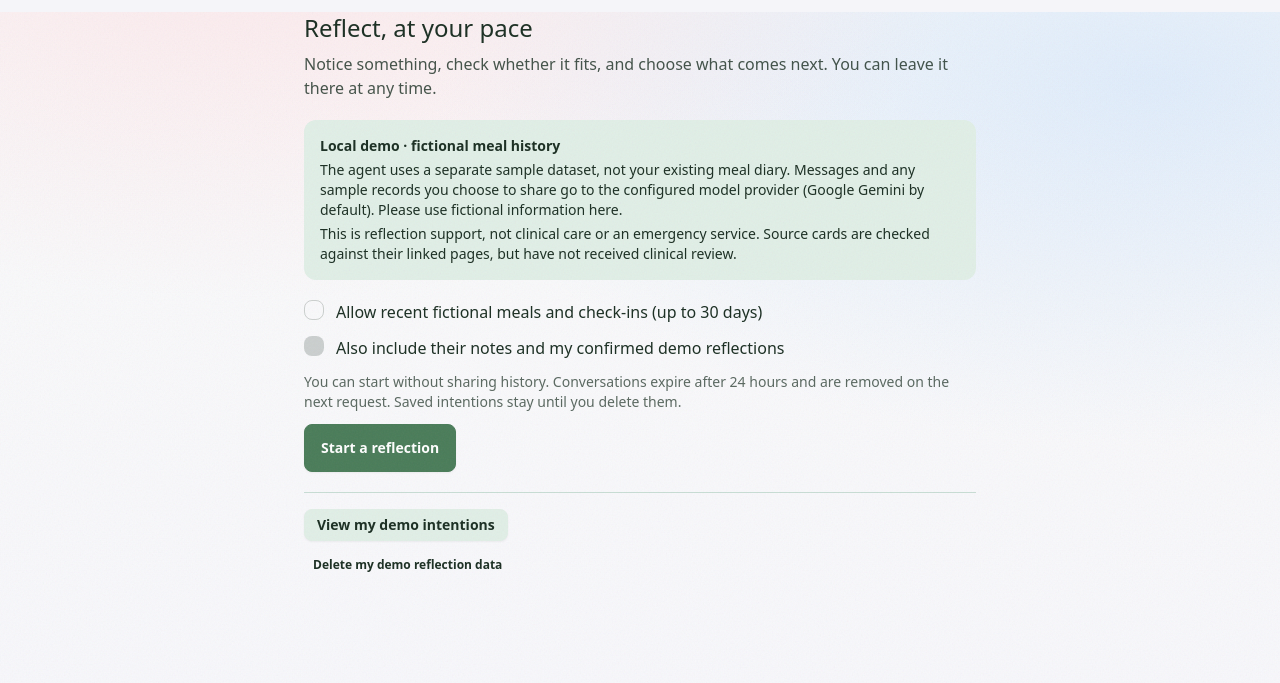
only sends edited goal text after the user explicitly saves the draft
Click the button "Start a reflection" at (380, 448), box [304,424,456,472]
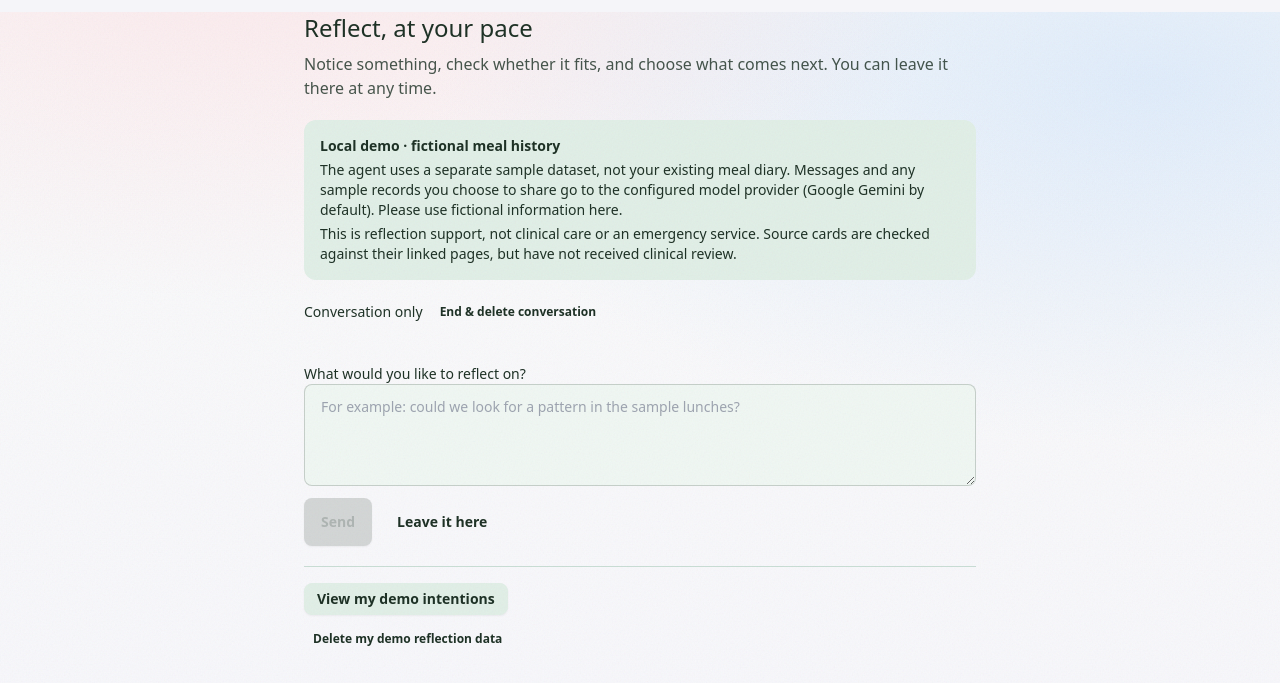
Type "Please make an intention" into the text box labelled "What would you like to reflect on?" at (640, 435), box [304,384,976,486]
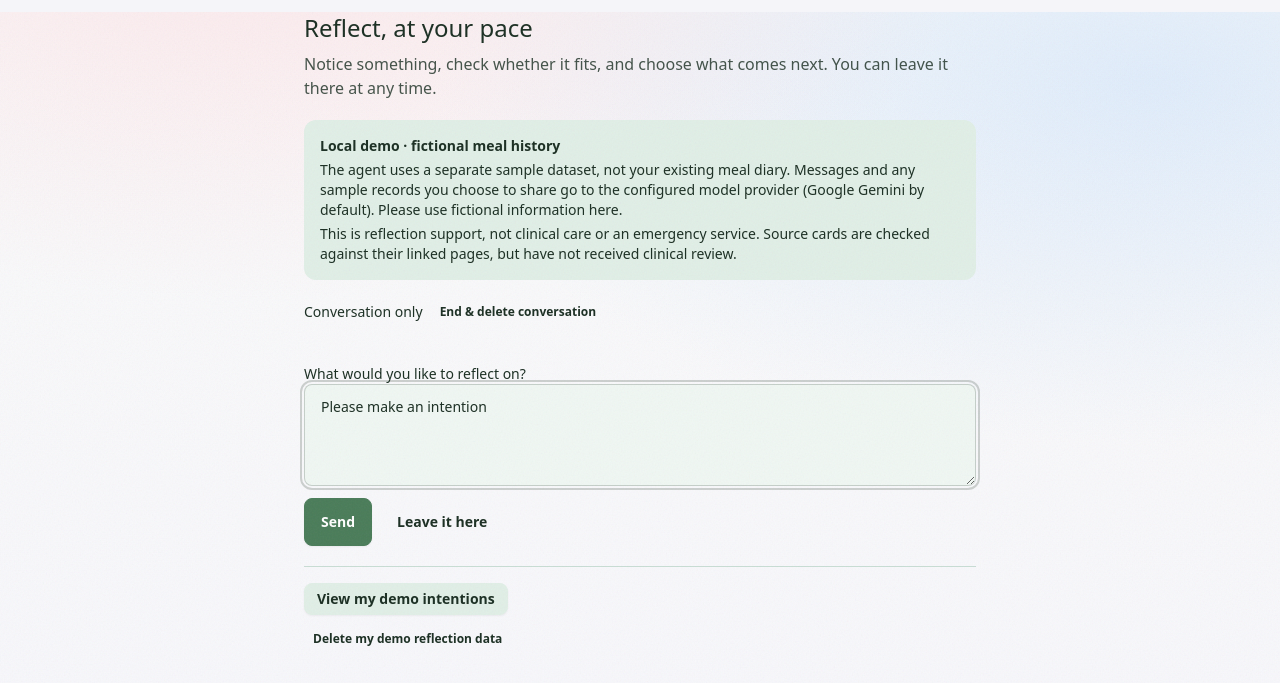
Click the button "Send" at (338, 522), box [304,498,372,546]
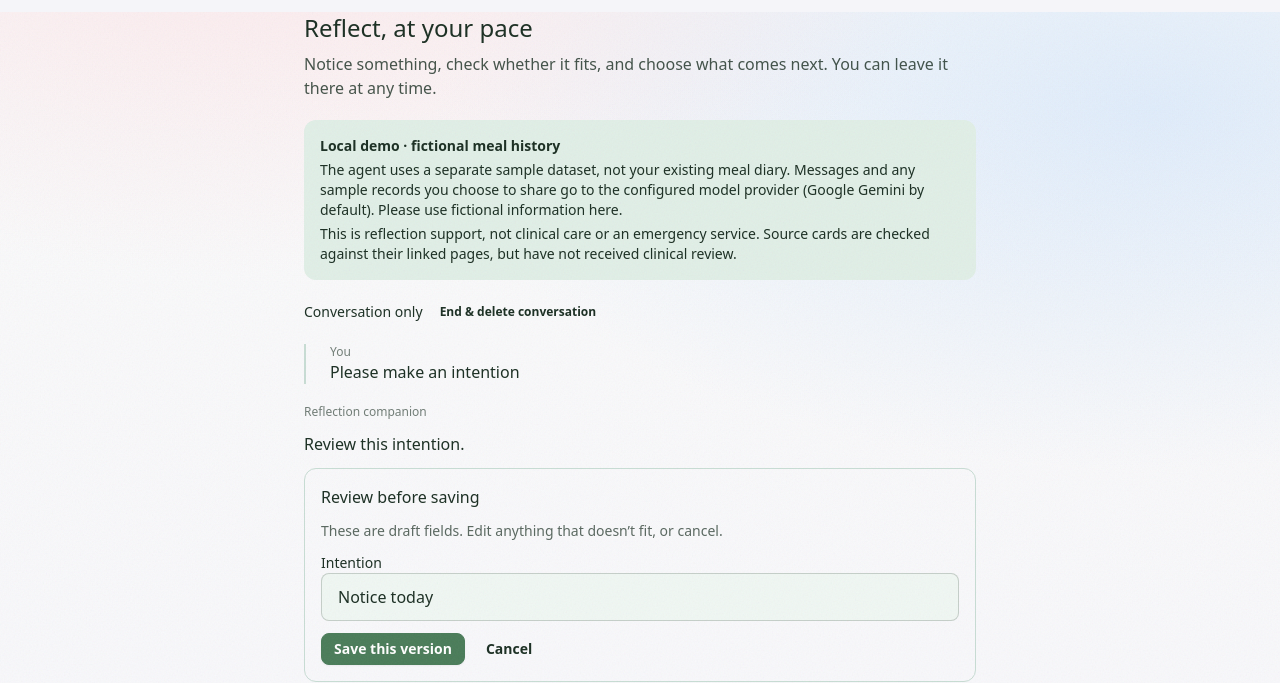
Replace the text in the field labelled "Intention" with "Ask a friend for company" at (640, 597), box [321,573,959,621]
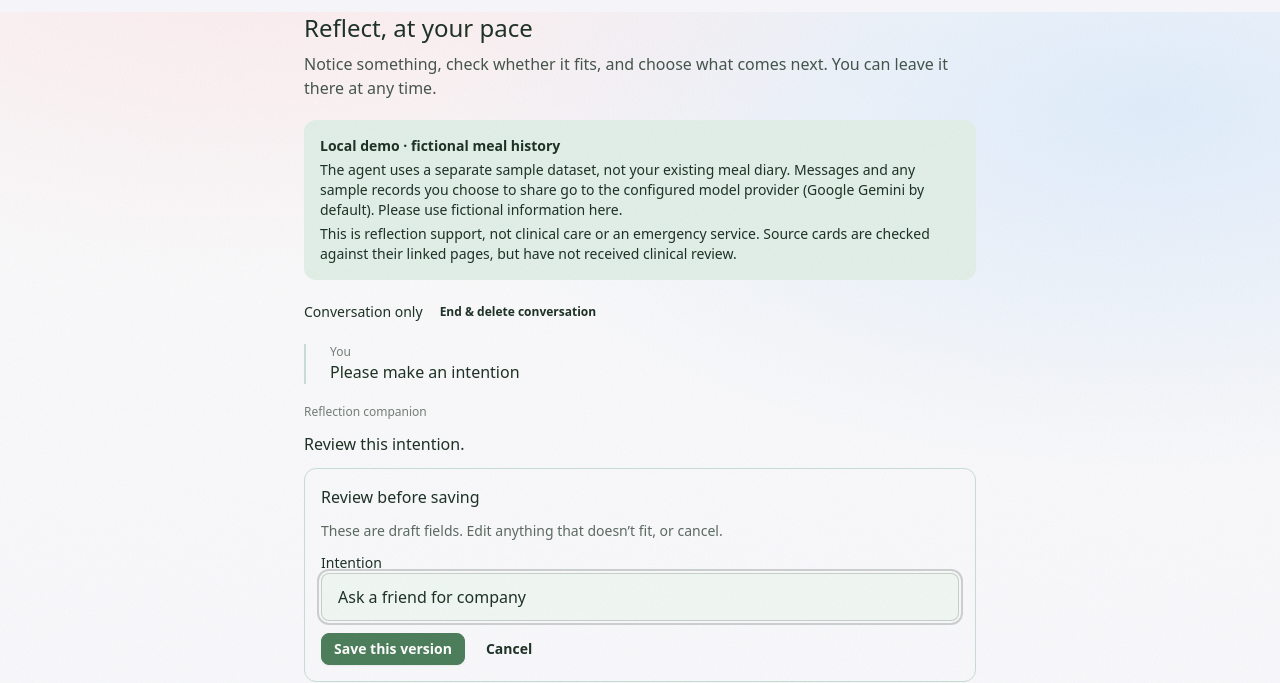
Click the button "Save this version" at (393, 649), box [321,633,465,665]
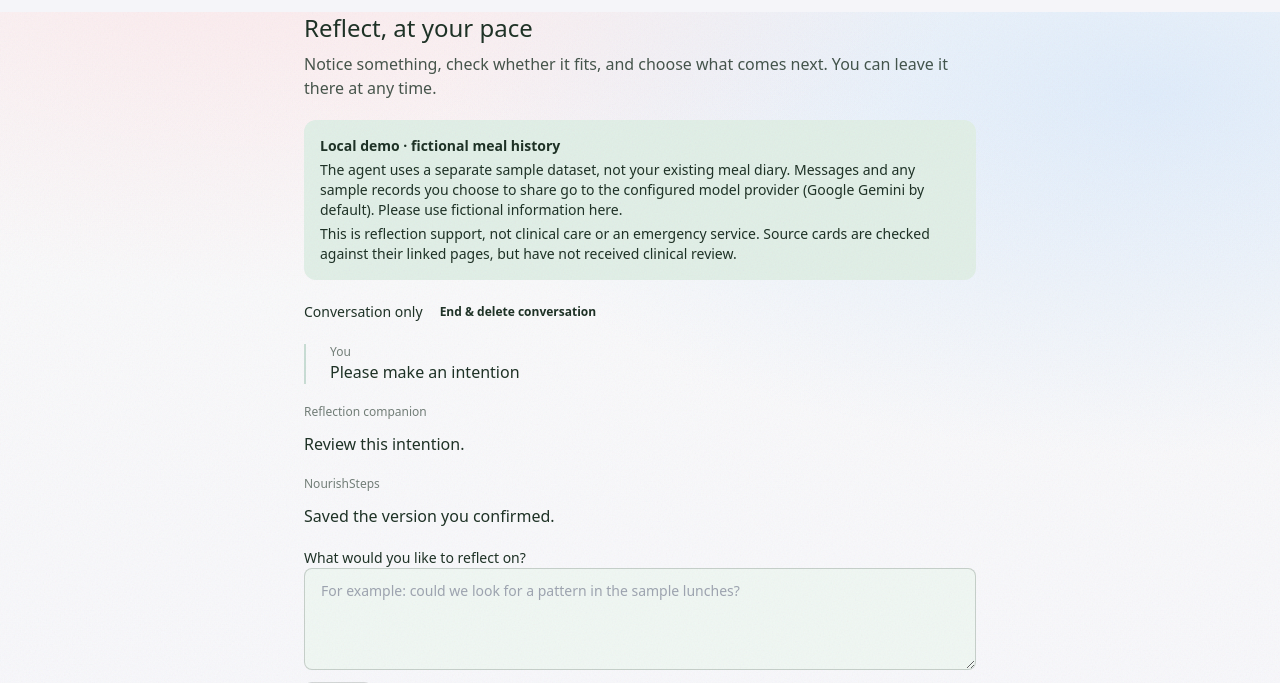
Now the text "Saved the version you confirmed." is shown, box [304,505,554,527]
